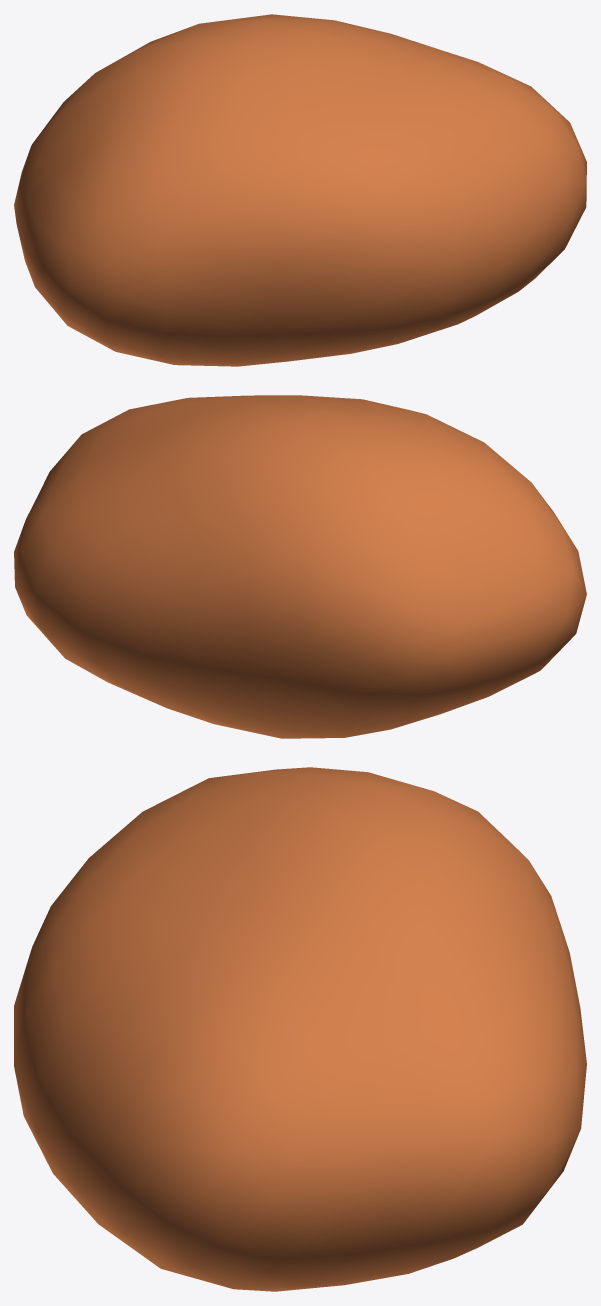
The model's file is copper.glb.
The picture shows the model from 3 angles, top to bottom: view 1: azimuth 30°, elevation 25°; view 2: azimuth 150°, elevation 25°; view 3: azimuth 270°, elevation 25°; orthographic projection. The views are drawn at different scales.
Visible parts, largest first — view 1: copper; view 2: copper; view 3: copper.
Boxes of the visible parts, x1,y1,x2,y2 form: copper: [14, 14, 586, 366]; copper: [14, 395, 586, 738]; copper: [14, 767, 586, 1291].
Bounding box in the file's own units: 0.25 × 0.1402 × 0.1811.
